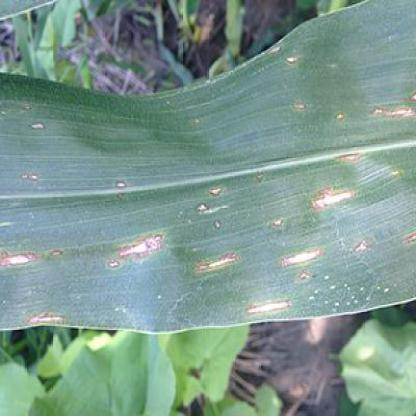Corn leaf blight: (1, 13, 415, 346)
